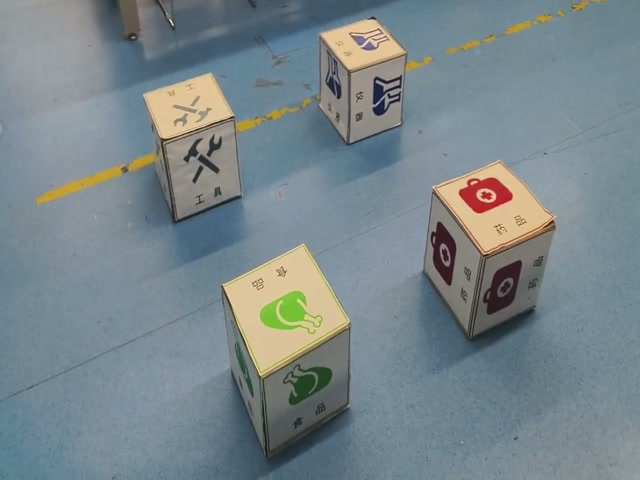Cube_food: (218, 242, 352, 380)
Cube_ins: (317, 14, 409, 73)
Cube_medicine: (430, 156, 558, 258)
Cube_tool: (141, 71, 236, 144)
